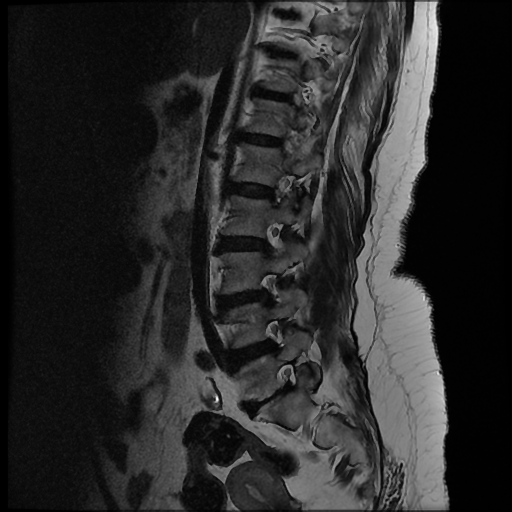RFS0: (250, 313, 294, 361), (256, 219, 297, 264), (263, 168, 301, 216), (264, 362, 302, 406)
RFS1: (246, 265, 289, 312)
